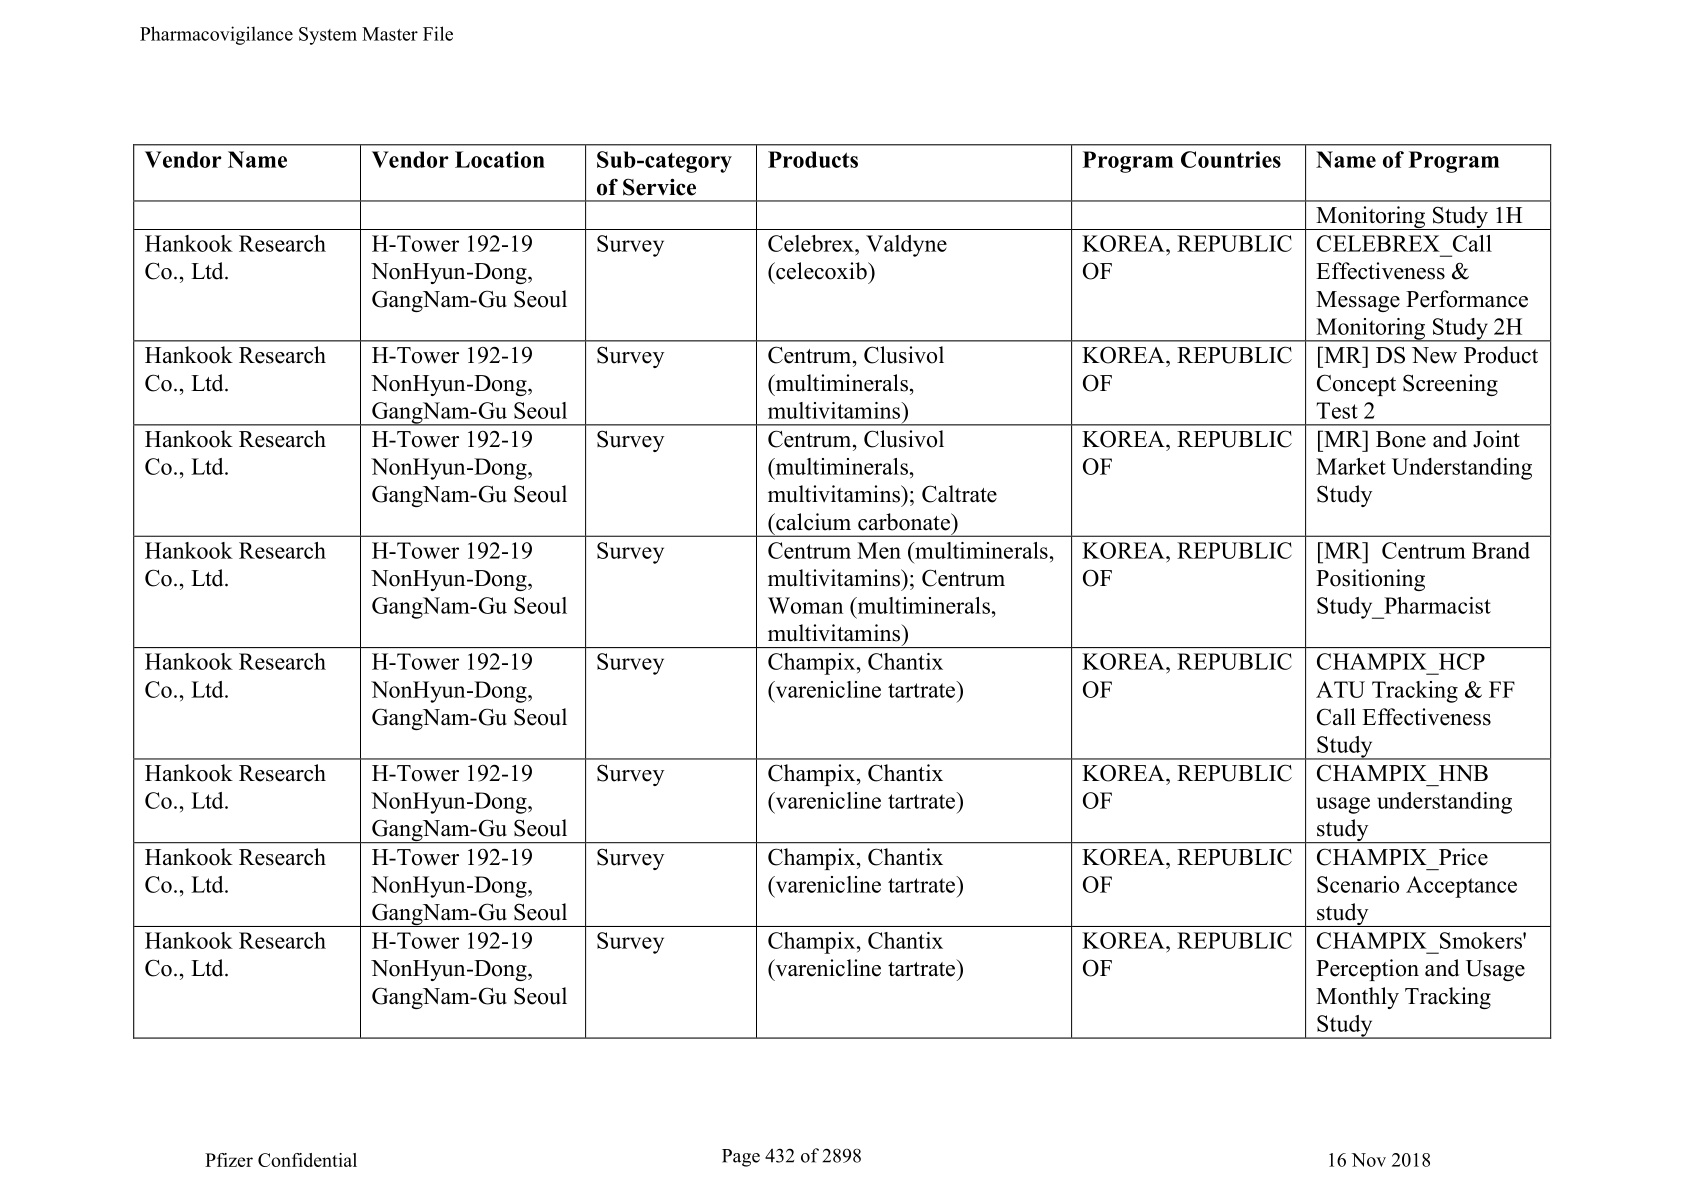full_lined: (133, 144, 1554, 1040)
